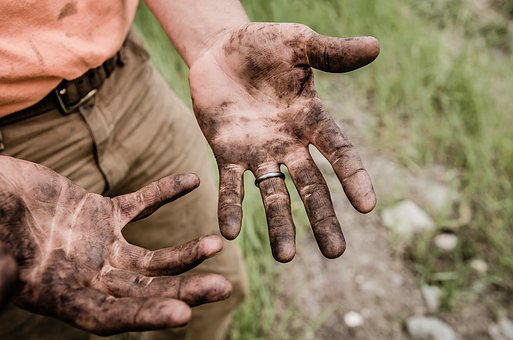palm: (194, 45, 339, 168), (7, 172, 107, 294)
